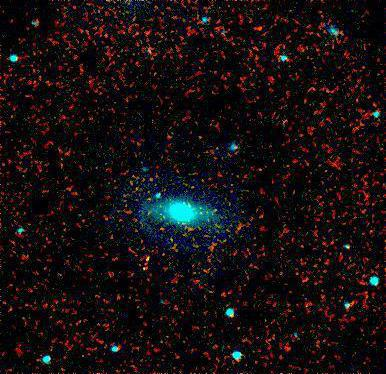star: (125, 250, 155, 280)
